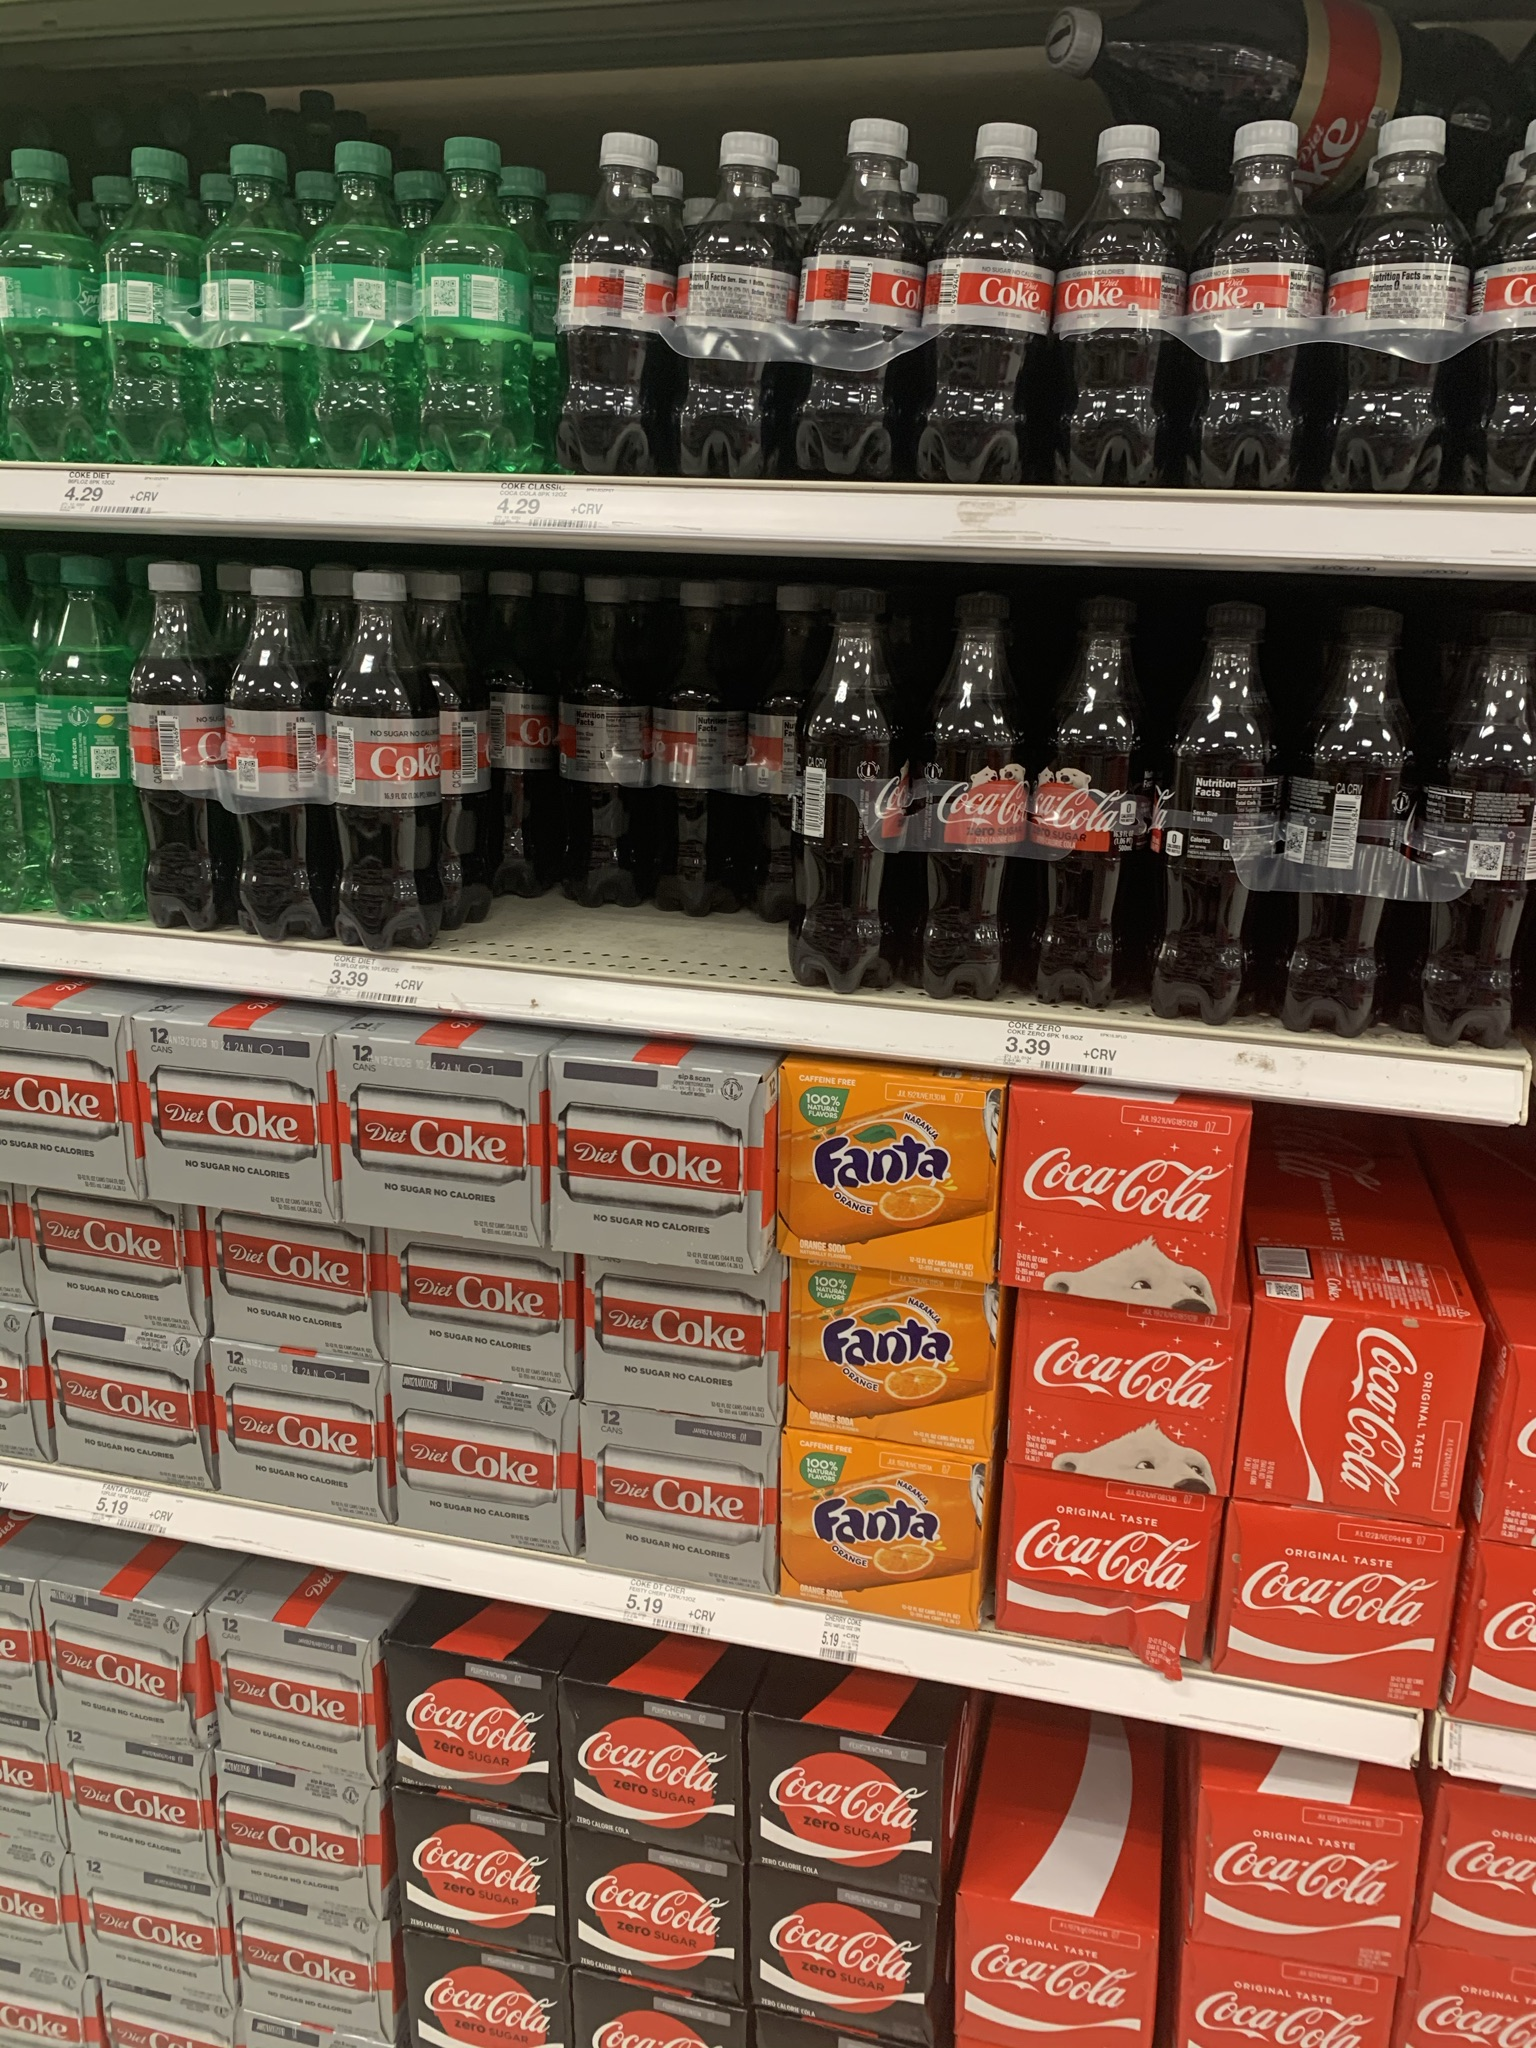box: (1012, 1109, 1234, 1285), (1267, 1301, 1460, 1501), (563, 1055, 752, 1253), (792, 1077, 986, 1268), (1231, 1526, 1450, 1680), (1020, 1313, 1231, 1466), (358, 1055, 537, 1222), (757, 1719, 950, 1874), (1213, 1801, 1407, 1950), (800, 1287, 987, 1435), (786, 1461, 984, 1598), (1016, 1498, 1208, 1638), (394, 1392, 573, 1527), (158, 1047, 318, 1193), (591, 1427, 765, 1561), (223, 1625, 378, 1771), (578, 1692, 737, 1830), (216, 1372, 382, 1501), (56, 1593, 202, 1737), (587, 1280, 774, 1392), (390, 1255, 565, 1361), (392, 1664, 539, 1787), (765, 1901, 918, 2017), (2, 1032, 124, 1176), (403, 1827, 558, 1937), (582, 1864, 739, 1972), (240, 1804, 384, 1917), (32, 1219, 198, 1314), (50, 1359, 197, 1461), (219, 1238, 373, 1335), (77, 1774, 210, 1872), (103, 1909, 226, 1992)
